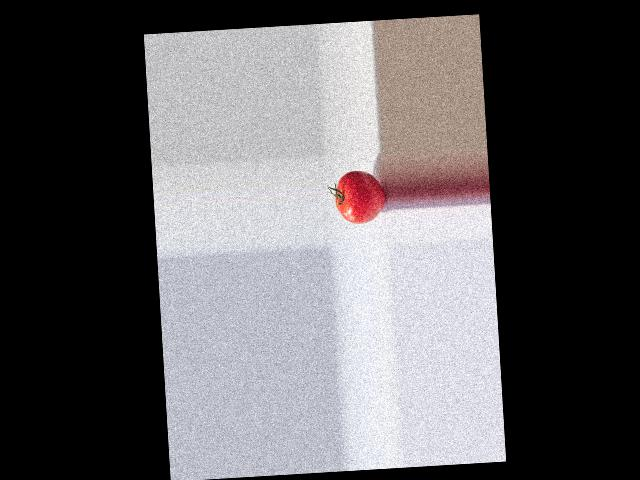tomato: (334, 169, 386, 225)
